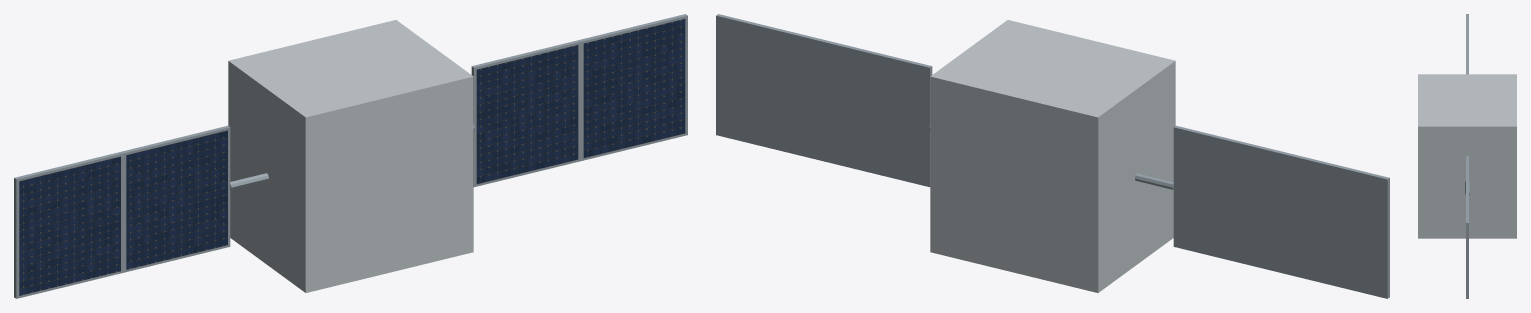
File: ref-pioneer-101139.glb
3 views of the same model, side by side, from view 1: azimuth 30°, elevation 25°; view 2: azimuth 150°, elevation 25°; view 3: azimuth 270°, elevation 25° (orthographic). The views are drawn at different scales.
Parts seen in each view (by area): view 1: Spacecraft body, Photovoltaic laminates (×4), Array frame (×4); view 2: Spacecraft body, Array frame (×4); view 3: Spacecraft body, Array frame (×4).
Part boxes in pixels (bbox=[...]): Spacecraft body: bbox=[228, 20, 473, 292]; Photovoltaic laminates (×4): bbox=[19, 19, 685, 295]; Array frame (×4): bbox=[14, 14, 687, 298]; Spacecraft body: bbox=[930, 20, 1175, 292]; Array frame (×4): bbox=[716, 14, 1389, 298]; Spacecraft body: bbox=[1418, 74, 1516, 238]; Array frame (×4): bbox=[1466, 14, 1468, 298].
Size of the model in its own units: 4 by 1 by 0.8.
Materials: 3 (1 with a texture image).
